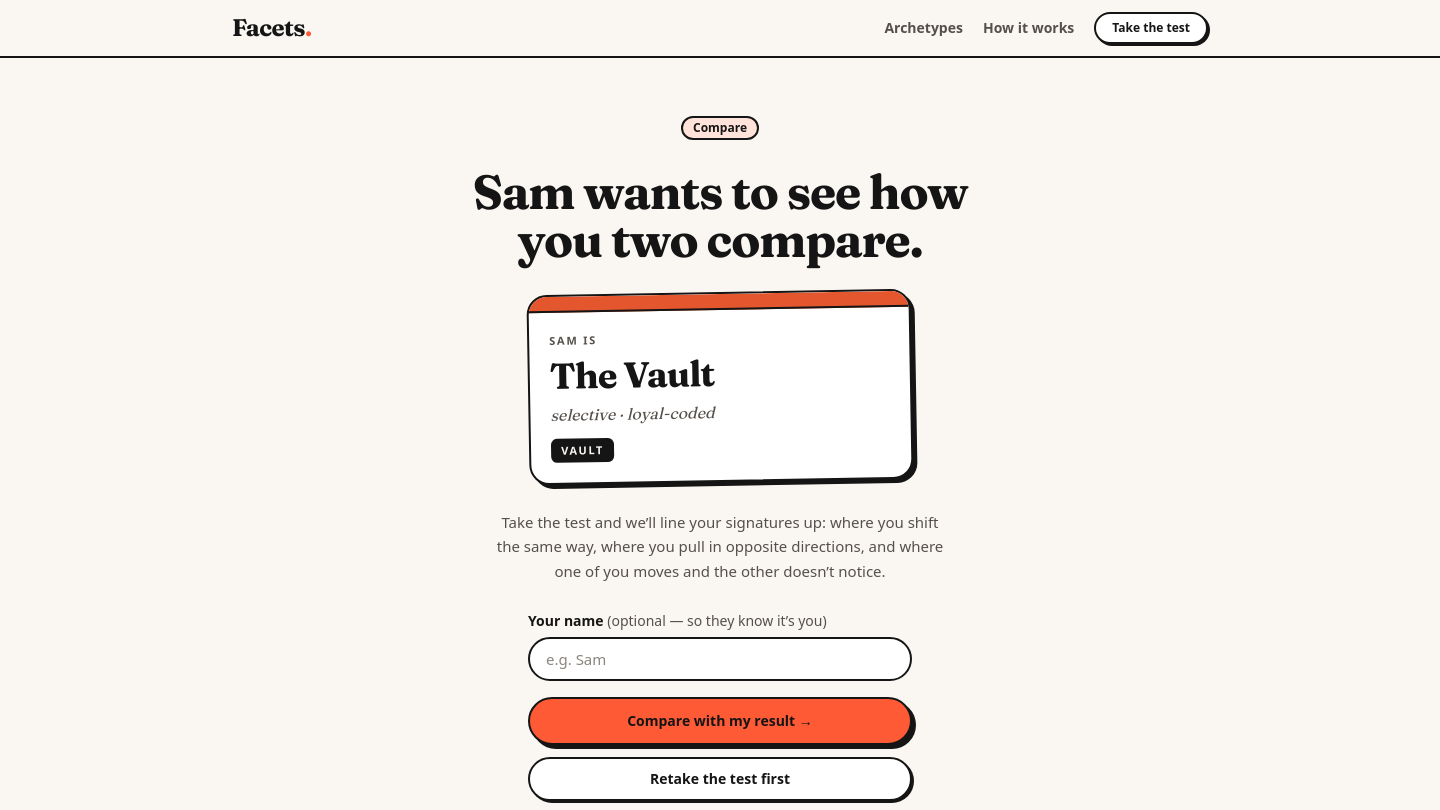
Scenario: ComparePage — invite › lets someone with a finished run compare straight away
Click the button "Compare with my result →" at [720, 721], box [528,697,912,745]
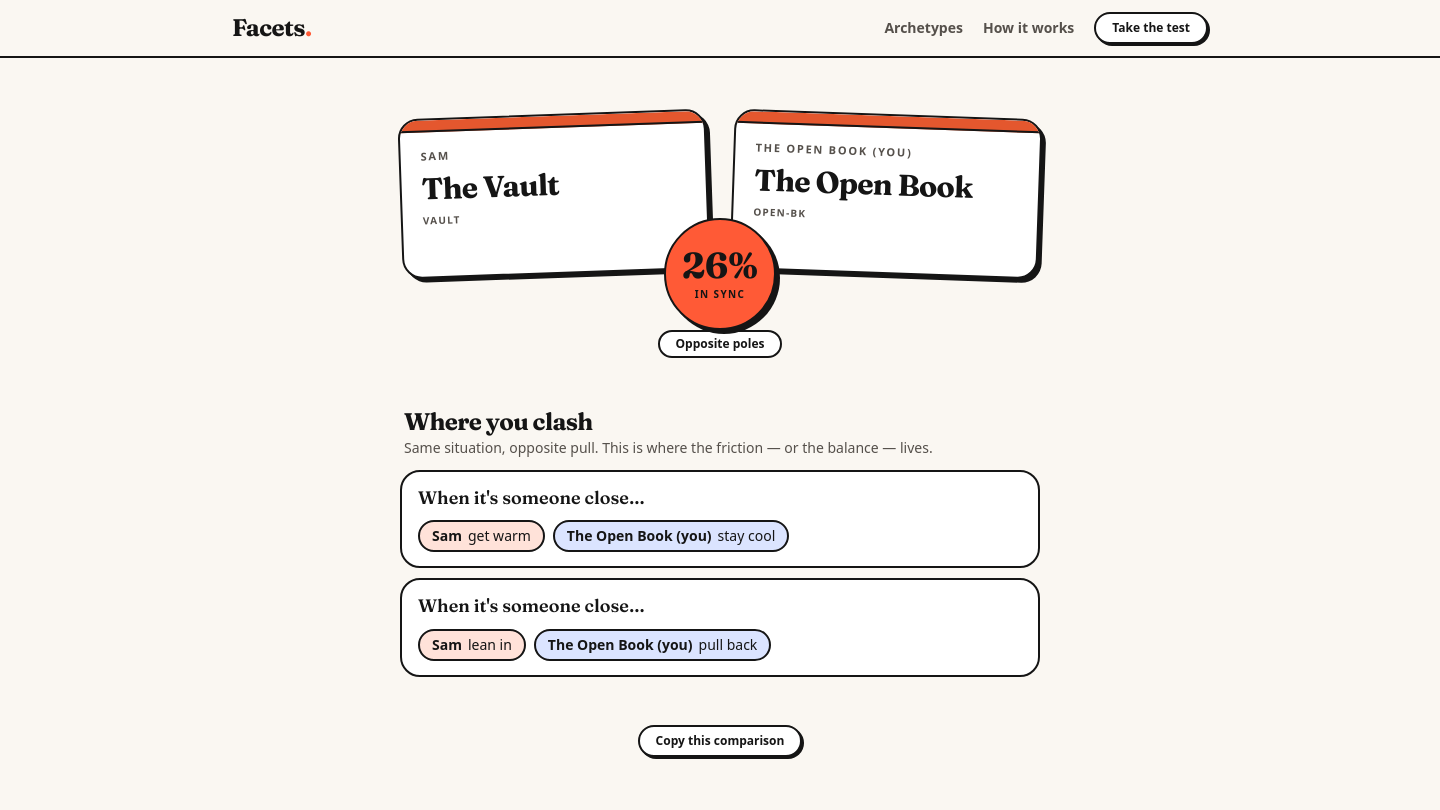
Expected: the heading "Where you clash" is shown, [404,406,593,436]
